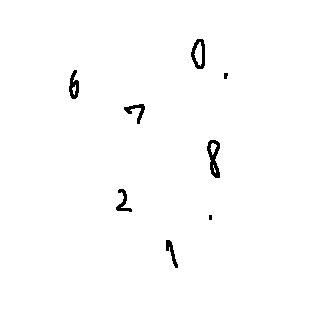.: (217, 68, 238, 84), (204, 210, 219, 224)
0: (187, 32, 214, 73)
1: (161, 234, 186, 276)
2: (114, 184, 134, 220)
6: (64, 63, 93, 111)
7: (115, 90, 153, 129)
8: (204, 133, 227, 188)
